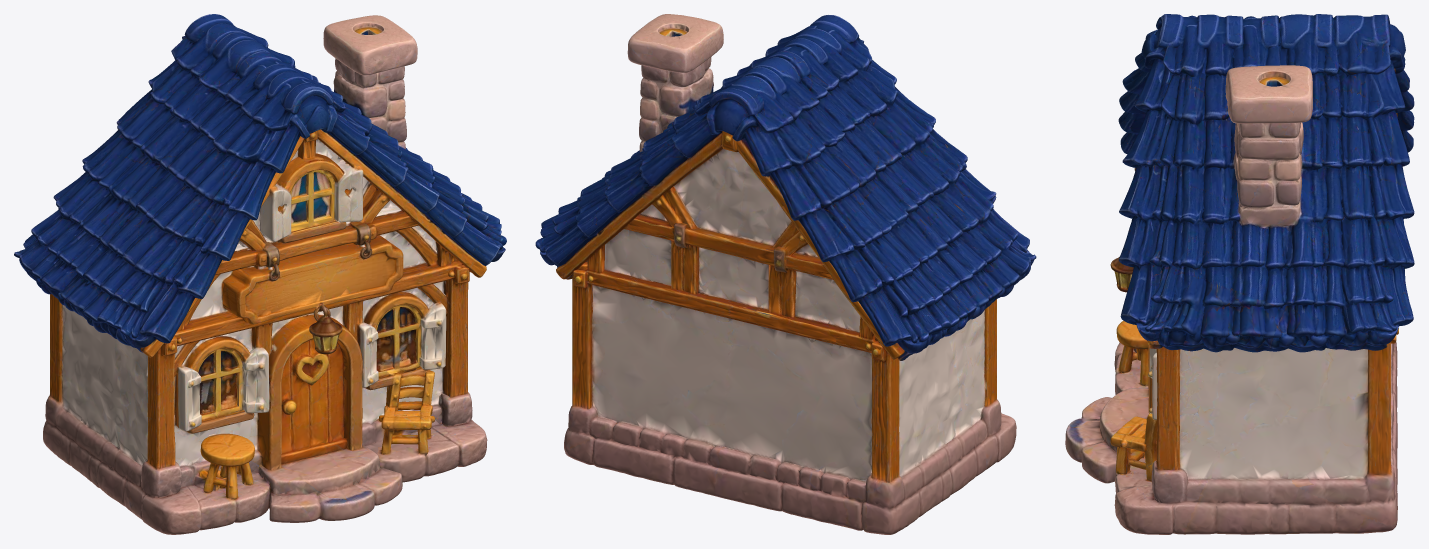
File: cozycottage.glb
3 renders of one model, left to right at view 1: azimuth 30°, elevation 25°; view 2: azimuth 150°, elevation 25°; view 3: azimuth 270°, elevation 25°, orthographic. The views are drawn at different scales.
Bounding box in the file's own units: 1.9 × 1.79 × 1.31.
1 material, 1 textured.
